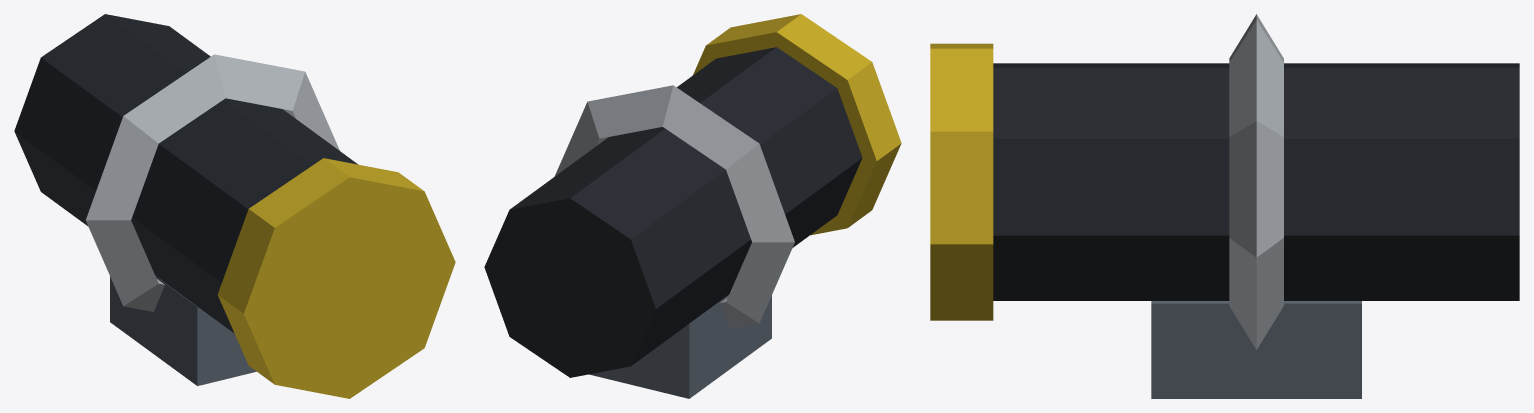
The model's file is collimator-deafening.glb.
3 renders of one model, left to right at view 1: azimuth 30°, elevation 25°; view 2: azimuth 150°, elevation 25°; view 3: azimuth 270°, elevation 25°, orthographic. The views are drawn at different scales.
Visible parts, largest first — view 1: m; view 2: m; view 3: m.
Part boxes in pixels (left/top/right/bottom): m: left=14, top=14, right=455, bottom=398; m: left=484, top=14, right=901, bottom=398; m: left=930, top=14, right=1519, bottom=398.
Bounding box in the file's own units: 0.0364 × 0.0386 × 0.06.
